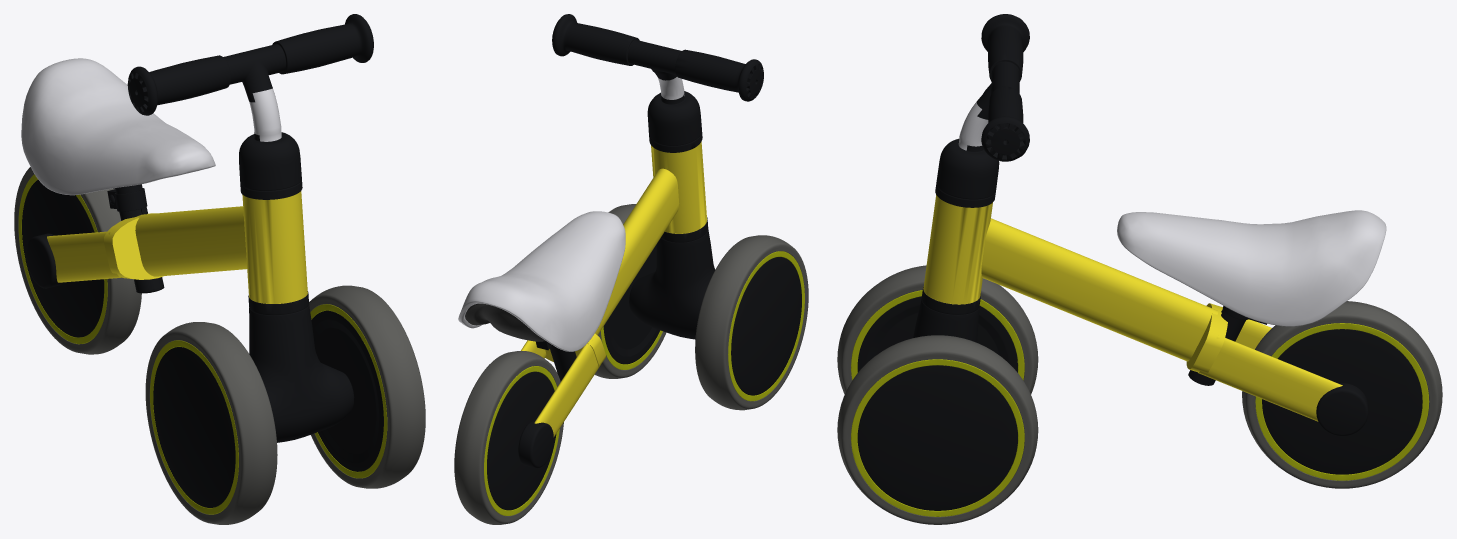
Rendered from baby_bike.glb.
3 renders of one model, left to right at view 1: azimuth 30°, elevation 25°; view 2: azimuth 150°, elevation 25°; view 3: azimuth 270°, elevation 25°, orthographic. The views are drawn at different scales.
Parts seen in each view (by area): view 1: ASSET; view 2: ASSET; view 3: ASSET.
Boxes of the visible parts, x1,y1,x2,y2 form: ASSET: [14, 14, 425, 524]; ASSET: [454, 14, 808, 524]; ASSET: [837, 14, 1442, 524].
Bounding box in the file's own units: 0.1999 × 0.36 × 0.4698.
6 materials, 1 textured.
